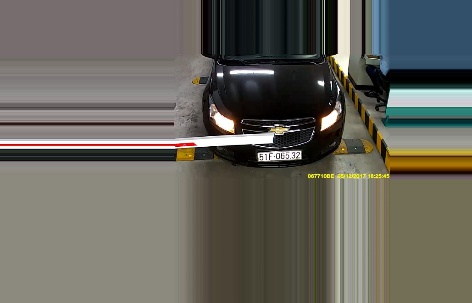plate: (255, 147, 303, 163)
